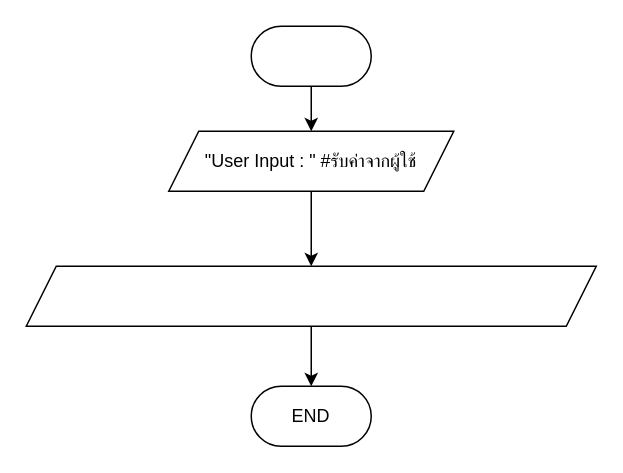
This 623x473 diagram has some shape labels left out. The shapes that lost their labels are listed below. From the top down, each one's box as (x1, y1, x2, y2) in pixels, then its label:
(250, 25, 371, 86): START
(25, 265, 596, 326): "#ค่าจากผู้ใช้ degree Celsius = #ค่าหลังคำนวณ degree Fahrenheit"
